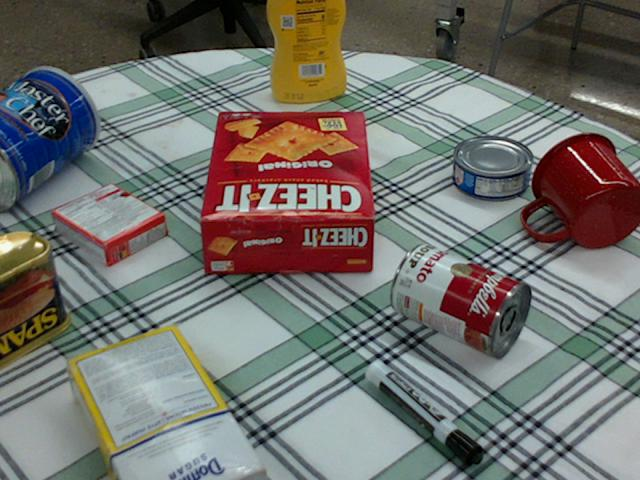cracker_box: (195, 109, 371, 272)
gelatin_box: (52, 181, 167, 267)
large_marker: (366, 360, 482, 468)
master_chef_can: (0, 67, 98, 212)
mug: (523, 132, 639, 249)
mustard_bottle: (267, 0, 345, 102)
potted_meat_can: (0, 228, 70, 367)
sugar_box: (61, 327, 262, 479)
tomato_soup_can: (389, 242, 531, 358)
tuna_fish_can: (453, 136, 534, 200)
